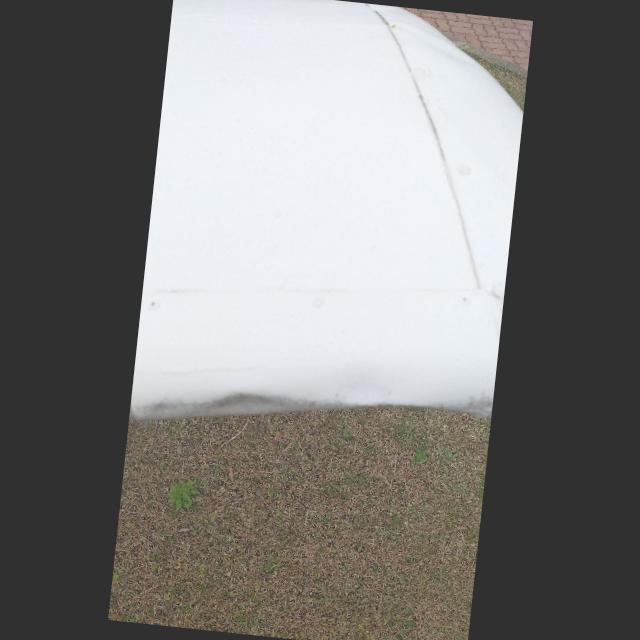dent: (202, 382, 292, 426)
